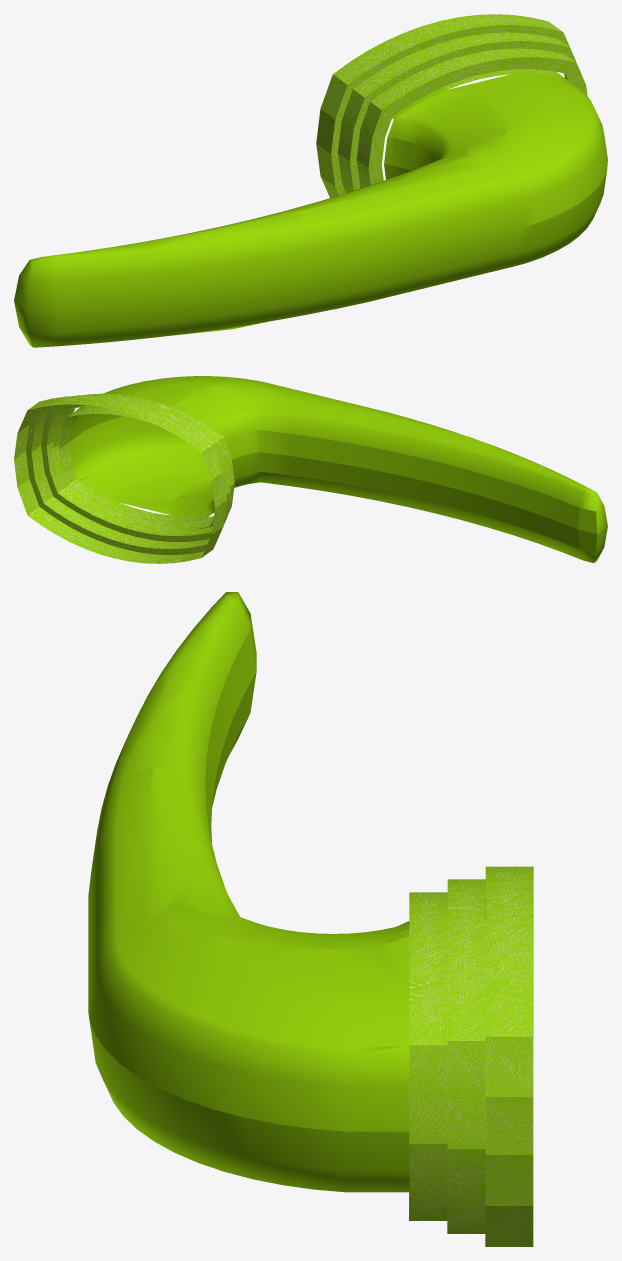
3 views of the same model, one above another, from view 1: azimuth 30°, elevation 25°; view 2: azimuth 150°, elevation 25°; view 3: azimuth 270°, elevation 25° (orthographic). The views are drawn at different scales.
Parts seen in each view (by area): view 1: group_3.191, group_3.193, group_3.195, group_3.194, group_3.198; view 2: group_3.191, group_3.193, group_3.194, group_3.195, group_3.198, group_3.201; view 3: group_3.191, group_3.193, group_3.194, group_3.195.
Boxes of the visible parts, box(x1,y1,x2,y2) form: group_3.191: box(14, 73, 607, 347); group_3.193: box(316, 14, 575, 197); group_3.195: box(356, 48, 587, 188); group_3.194: box(338, 32, 580, 192); group_3.198: box(443, 69, 563, 89); group_3.191: box(68, 376, 607, 562); group_3.193: box(14, 395, 226, 563); group_3.194: box(31, 394, 230, 549); group_3.195: box(46, 393, 234, 536); group_3.198: box(59, 407, 213, 522); group_3.201: box(52, 405, 213, 530); group_3.191: box(88, 592, 409, 1192); group_3.193: box(485, 866, 533, 1246); group_3.194: box(447, 879, 485, 1233); group_3.195: box(409, 892, 447, 1220).
Size of the model in its own units: 0.2072 by 0.0777 by 0.0573.
